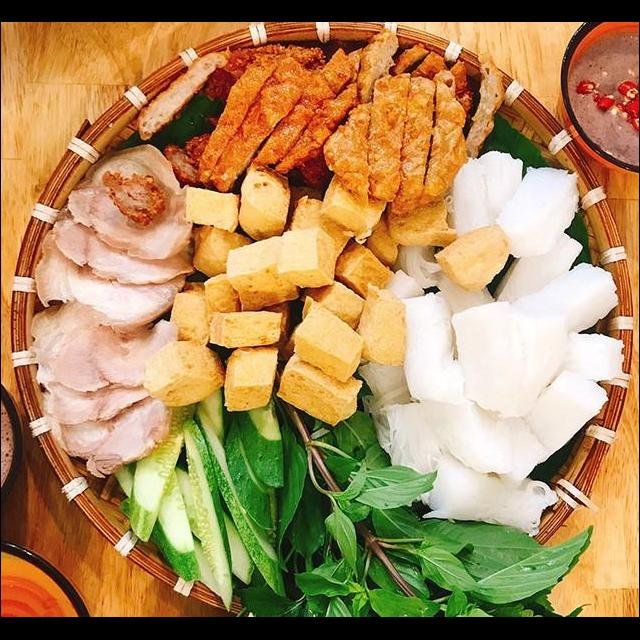bun: (346, 226, 635, 546), (447, 134, 586, 266)
bun dau: (18, 69, 627, 618)
cha com: (131, 25, 515, 218)
dau hu: (135, 164, 419, 432), (428, 218, 516, 286), (376, 182, 460, 250)
thit heo: (20, 135, 206, 488)
